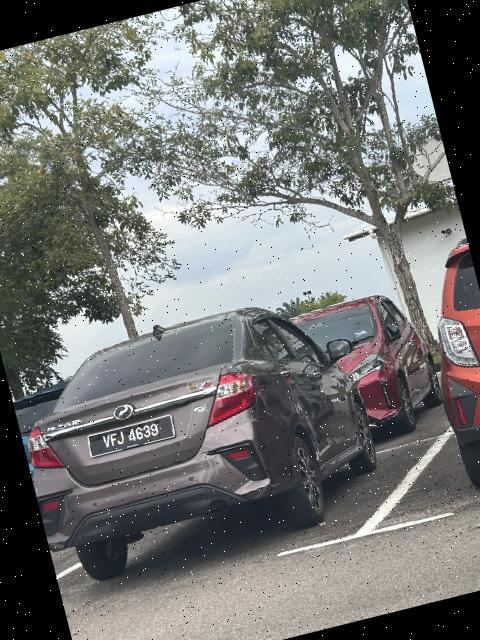License_Plate: (84, 413, 180, 462)
VFJ4639: (84, 413, 180, 462)
car: (4, 279, 392, 586)
